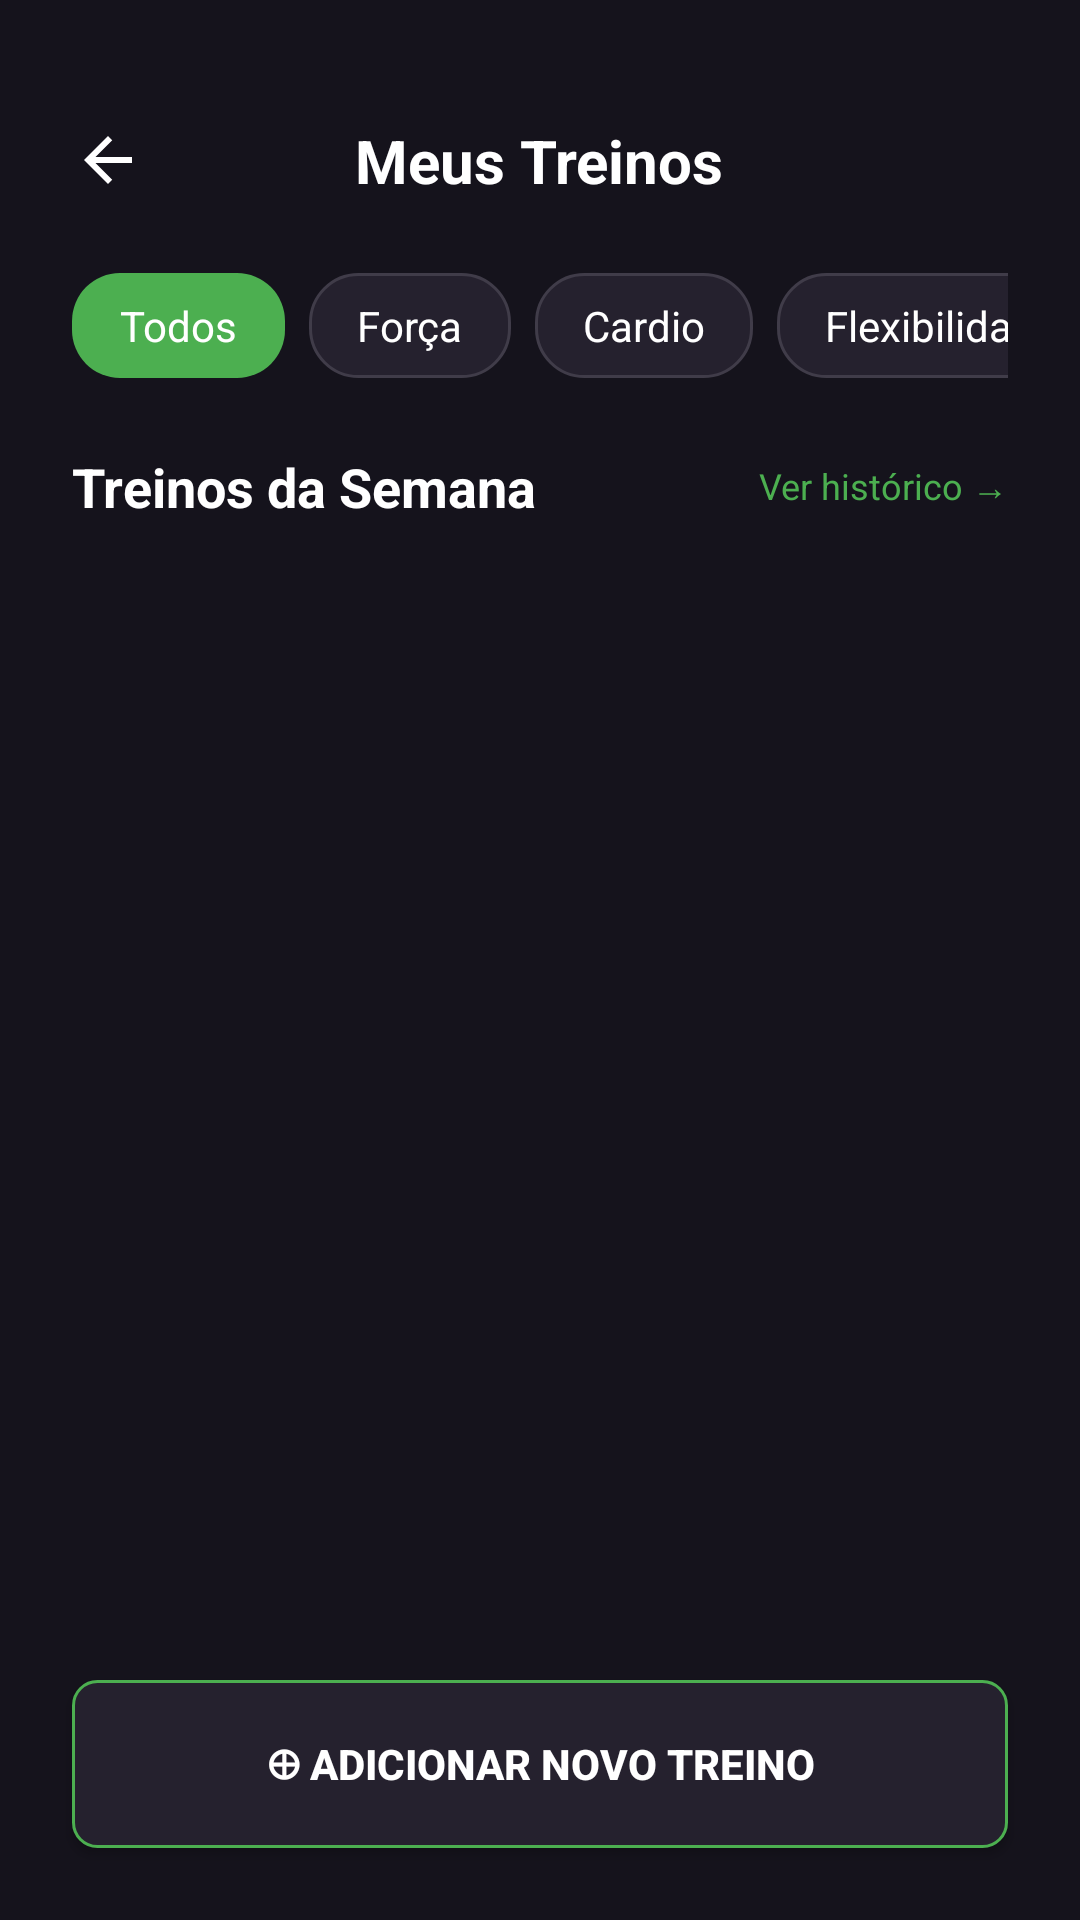

Icons on this 1080×1920 Android screen, each with its box as (x1, y1, x2, y2):
arrow back: (84, 136, 132, 184)
